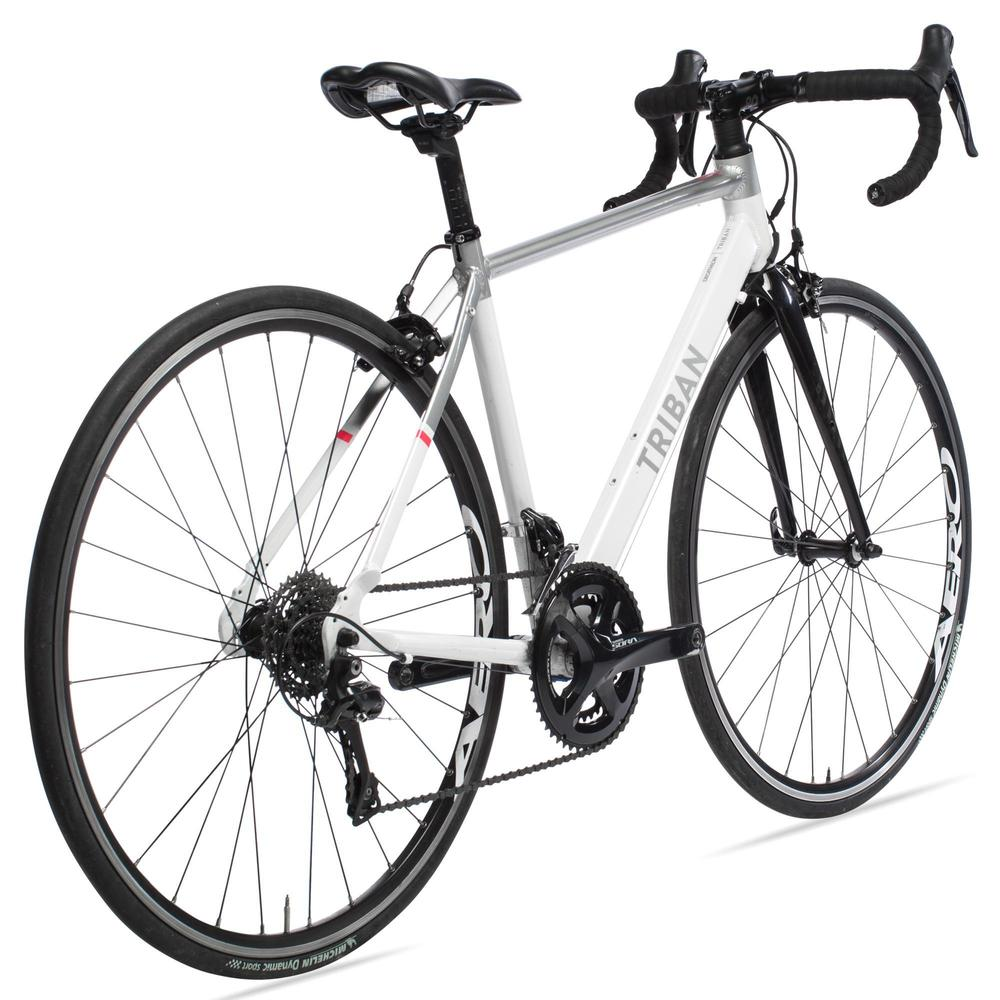RoadBike: (32, 21, 992, 971)
